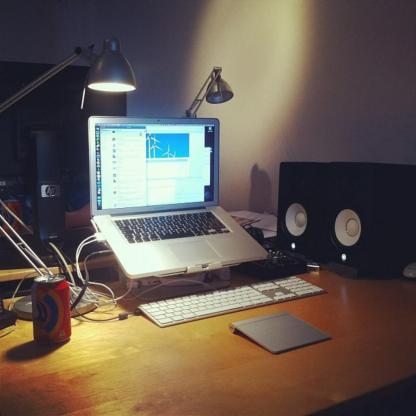board: (87, 116, 270, 278), (32, 273, 71, 349)
